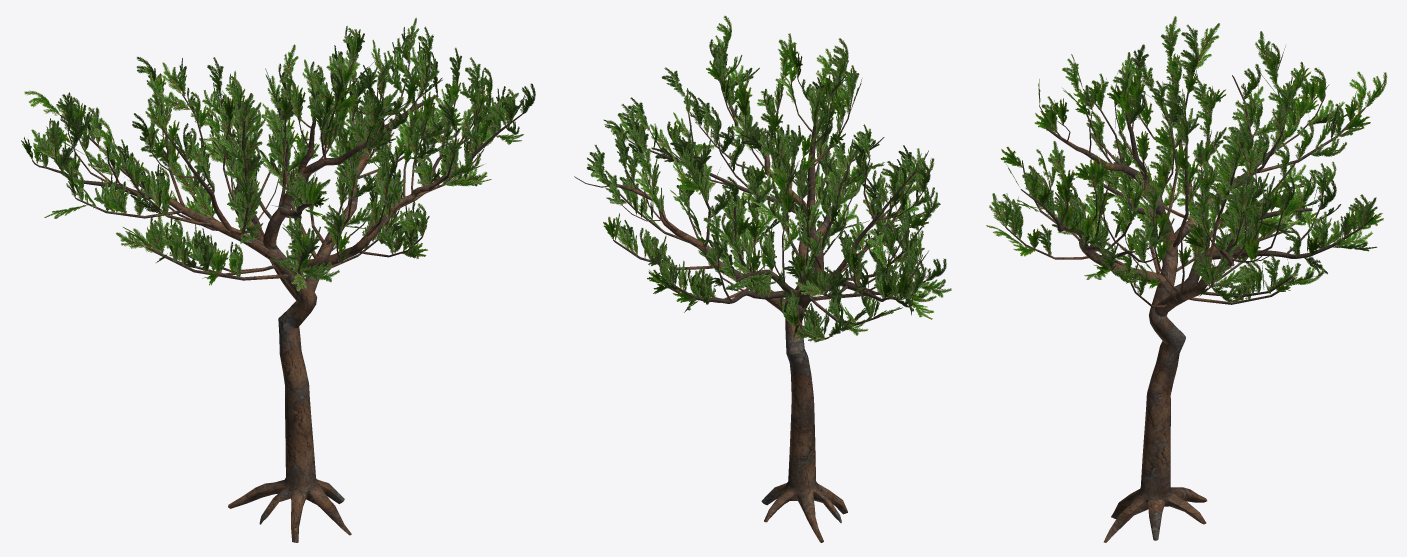
The model's file is pine.glb.
3 renders of one model, left to right at view 1: azimuth 30°, elevation 25°; view 2: azimuth 150°, elevation 25°; view 3: azimuth 270°, elevation 25°, orthographic. The views are drawn at different scales.
Parts seen in each view (by area): view 1: Object_5, Object_4; view 2: Object_5, Object_4; view 3: Object_5, Object_4.
Part boxes in pixels (x1,y1,x2,y2): Object_5: [21, 17, 535, 291]; Object_4: [32, 54, 522, 542]; Object_5: [587, 15, 951, 342]; Object_4: [574, 69, 925, 542]; Object_5: [986, 16, 1387, 302]; Object_4: [1005, 54, 1365, 542].
Bounding box in the file's own units: 4.8 × 5.27 × 4.05.
2 materials, 2 textured.
